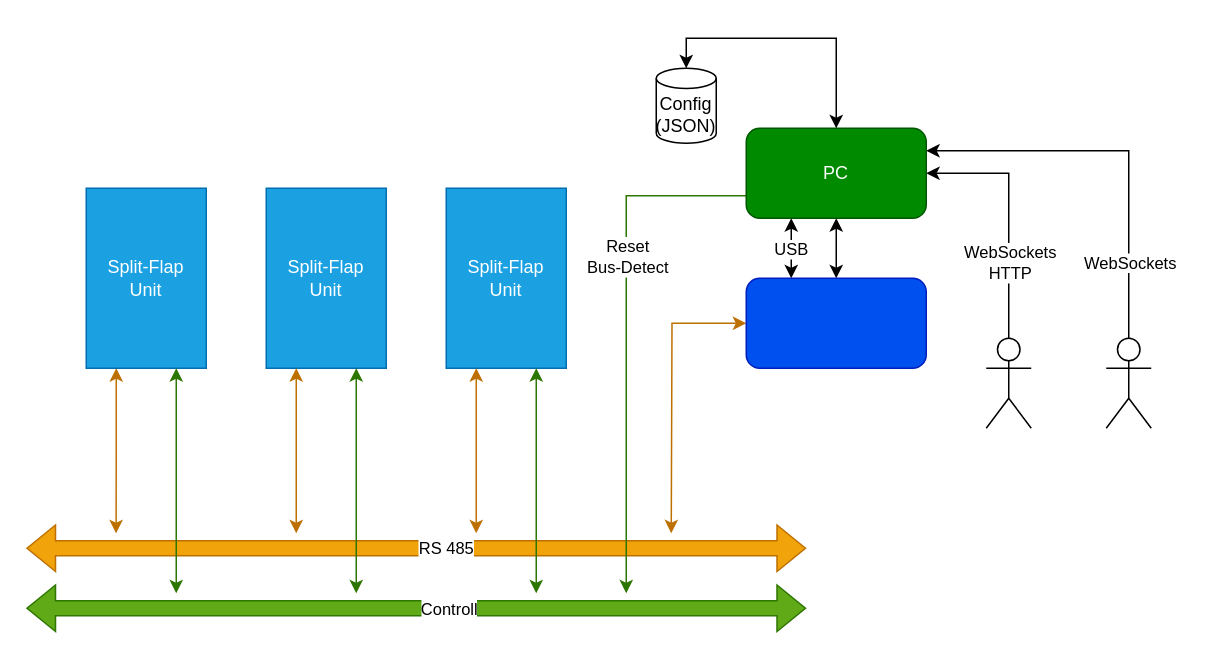
Some shapes in this 1214 by 659 pixel diagram are drawn without their labels. Here are the shapes that lost their labels. From the top down, the box of each, then its label:
(745, 277, 926, 368): RS-485 Interface
(985, 337, 1031, 428): Web-UI
(1105, 337, 1151, 428): Homeassistant
